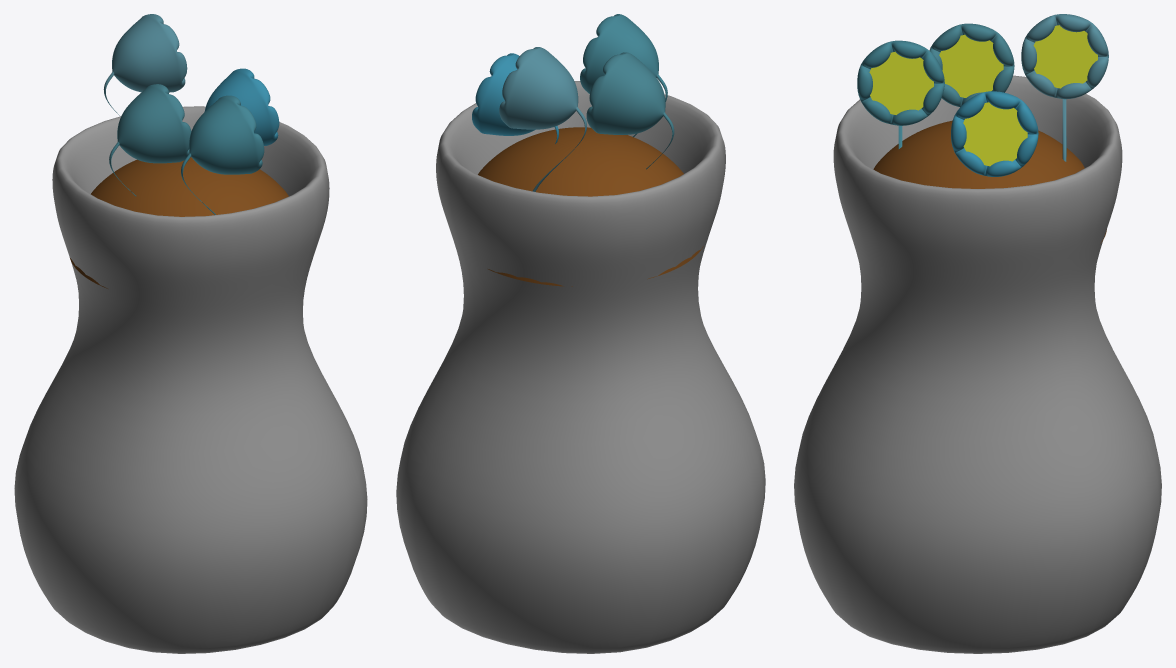
The model's file is primavera55.fbx.
3 views of the same model, side by side, from view 1: azimuth 30°, elevation 25°; view 2: azimuth 150°, elevation 25°; view 3: azimuth 270°, elevation 25° (orthographic). The views are drawn at different scales.
Visible parts, largest first — view 1: Circle.014; view 2: Circle.014; view 3: Circle.014.
Part boxes in pixels (left/top/right/bottom): Circle.014: left=14, top=14, right=367, bottom=653; Circle.014: left=396, top=14, right=765, bottom=653; Circle.014: left=794, top=14, right=1161, bottom=653.
Size of the model in its own units: 38.92 by 67.78 by 38.92.
